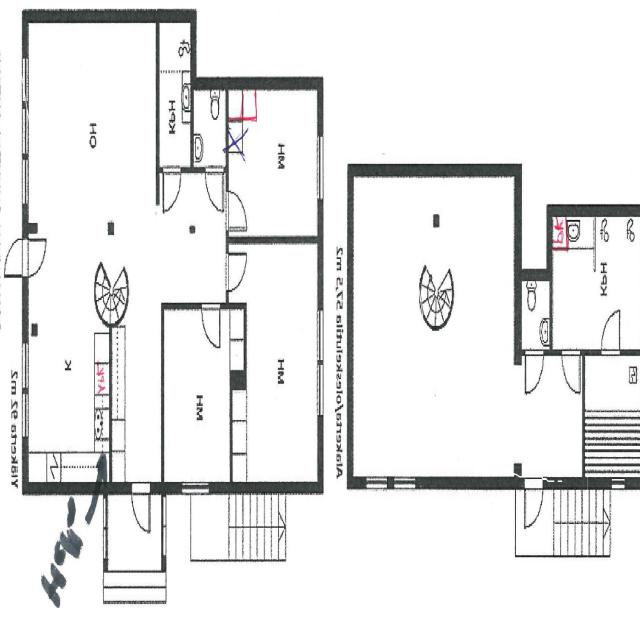door: (524, 477, 543, 530), (132, 482, 150, 533), (4, 238, 28, 276), (22, 238, 46, 276), (225, 191, 248, 230), (562, 348, 581, 394), (602, 310, 620, 355), (202, 302, 220, 347), (526, 349, 544, 393), (163, 167, 181, 210), (206, 167, 223, 211), (226, 254, 246, 291)
